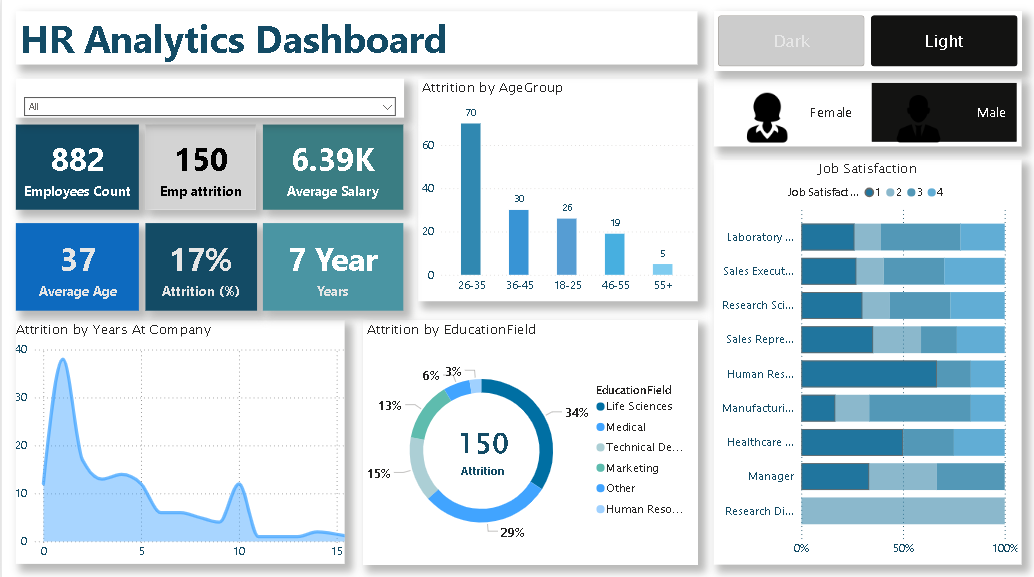

The page's visual inventory and layout, read from the dashboard file:
{"tool":"powerbi","page":{"name":"Page 1","canvas":[1280,720],"ordinal":0},"visuals":[{"type":"image","box":[891.7,101.7,98.3,75],"z":2000},{"type":"image","box":[1091.7,101.7,98.3,75],"z":3000},{"type":"card","fields":{"Values":["HR_Analytics.Employee_Count"]},"box":[18.3,103.3,151.7,105],"z":4000},{"type":"card","fields":{"Values":["HR_Analytics.Employees_attrition"]},"box":[178.3,101.7,136.7,105],"z":5000},{"type":"card","fields":{"Values":["HR_Analytics.year_with_text"]},"box":[325,216.7,171.7,105],"z":6000},{"type":"card","fields":{"Values":["HR_Analytics.attrition%"]},"box":[178.3,216.7,136.7,105],"z":7000},{"type":"card","fields":{"Values":["HR_Analytics.Avg_Salary"]},"box":[325,101.7,171.7,105],"z":8000},{"type":"donutChart","title":"Attrition by EducationField","fields":{"Y":["HR_Analytics.Employees_attrition"],"Category":["HR_Analytics.EducationField"]},"box":[448,394,414,302],"z":8500},{"type":"areaChart","title":"Attrition by Years At Company","fields":{"Category":["HR_Analytics.YearsAtCompany"],"Y":["HR_Analytics.Employees_attrition"]},"box":[18,394,408,302],"z":9000},{"type":"columnChart","title":"Attrition by AgeGroup","fields":{"Category":["HR_Analytics.AgeGroup"],"Y":["HR_Analytics.Employees_attrition"]},"box":[515,103.3,345,275],"z":11000},{"type":"card","fields":{"Values":["HR_Analytics.Avg_age"]},"box":[18.3,216.7,151.7,105],"z":12000},{"type":"hundredPercentStackedBarChart","title":"Job Satisfaction","fields":{"Y":["HR_Analytics.Employees_attrition"],"Series":["HR_Analytics.JobSatisfaction"],"Category":["HR_Analytics.JobRole"]},"box":[880,195,380,500],"z":13000},{"type":"advancedSlicerVisual","fields":{"Values":["HR_Analytics.Gender"]},"box":[880,97.1,380,84.3],"z":14000},{"type":"advancedSlicerVisual","fields":{"Values":["HR_Analytics.Department"]},"box":[18.3,331.7,478.3,56.7],"z":15000},{"type":"textbox","title":"  HR Analytics Dashboard","box":[18.3,13.3,703.3,76.7],"z":16000},{"type":"card","fields":{"Values":["HR_Analytics.Employees_attrition"]},"box":[550,501.7,90,91.7],"z":17000}]}

Visuals, with their boxes in screenshot pixels (x1, y1, x2, y2), scaled from the page's 1280x720 canvas onto the 1034x577 screenshot:
image: {"left": 720, "top": 82, "right": 800, "bottom": 142}
image: {"left": 882, "top": 82, "right": 961, "bottom": 142}
card - HR_Analytics.Employee_Count: {"left": 15, "top": 83, "right": 137, "bottom": 167}
card - HR_Analytics.Employees_attrition: {"left": 144, "top": 82, "right": 254, "bottom": 166}
card - HR_Analytics.year_with_text: {"left": 263, "top": 174, "right": 401, "bottom": 258}
card - HR_Analytics.attrition%: {"left": 144, "top": 174, "right": 254, "bottom": 258}
card - HR_Analytics.Avg_Salary: {"left": 263, "top": 82, "right": 401, "bottom": 166}
"Attrition by EducationField" donutChart: {"left": 362, "top": 316, "right": 696, "bottom": 558}
"Attrition by Years At Company" areaChart: {"left": 15, "top": 316, "right": 344, "bottom": 558}
"Attrition by AgeGroup" columnChart: {"left": 416, "top": 83, "right": 695, "bottom": 303}
card - HR_Analytics.Avg_age: {"left": 15, "top": 174, "right": 137, "bottom": 258}
"Job Satisfaction" hundredPercentStackedBarChart: {"left": 711, "top": 156, "right": 1018, "bottom": 557}
advancedSlicerVisual - HR_Analytics.Gender: {"left": 711, "top": 78, "right": 1018, "bottom": 145}
advancedSlicerVisual - HR_Analytics.Department: {"left": 15, "top": 266, "right": 401, "bottom": 311}
"  HR Analytics Dashboard" textbox: {"left": 15, "top": 11, "right": 583, "bottom": 72}
card - HR_Analytics.Employees_attrition: {"left": 444, "top": 402, "right": 517, "bottom": 476}
